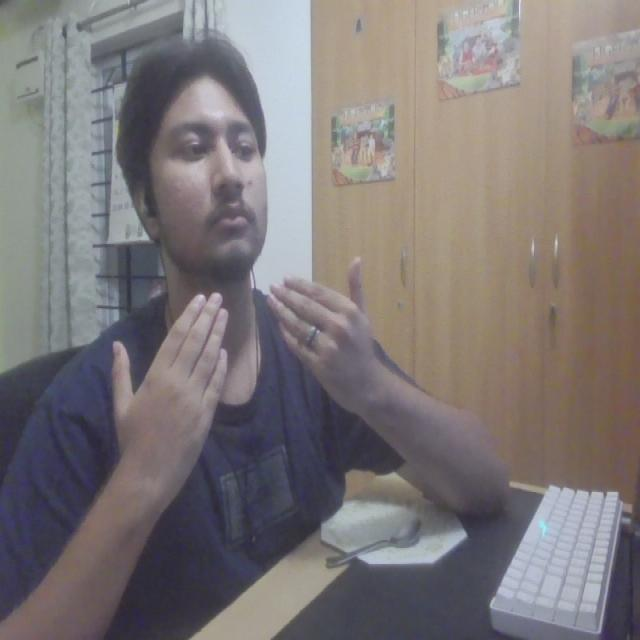thankyou: (108, 254, 386, 510)
